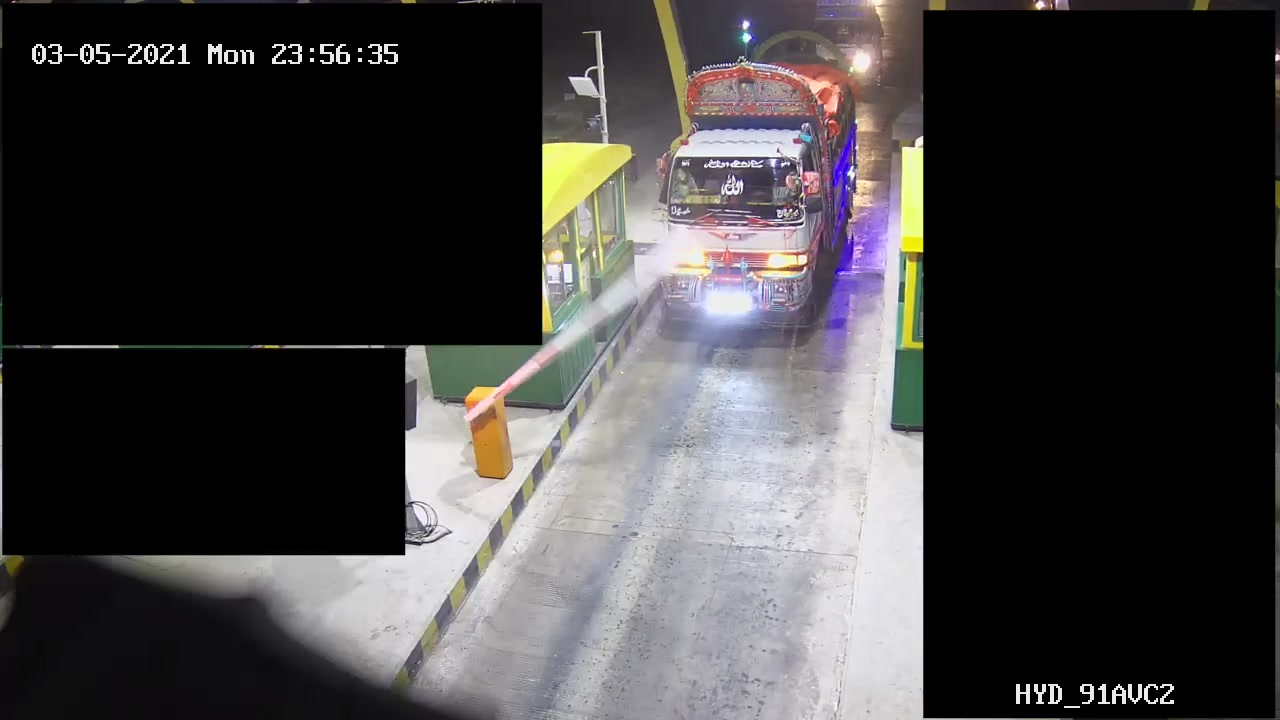F5: (656, 32, 850, 327)
